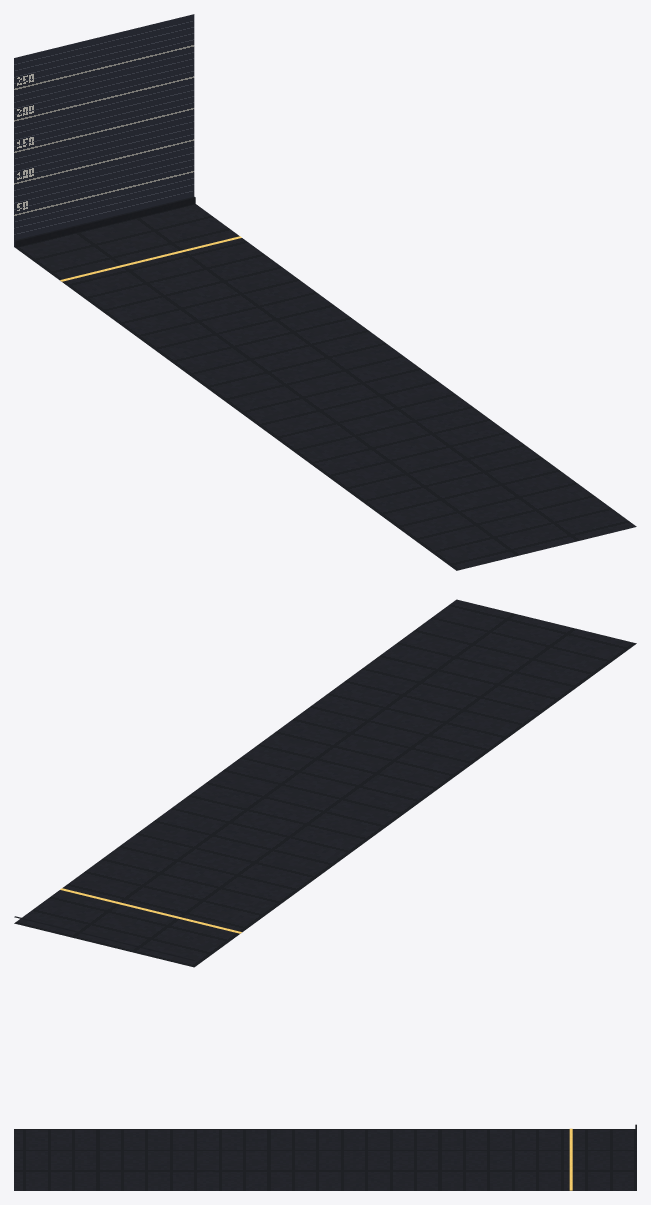
The model's file is lineup_wall.glb.
3 renders of one model, top to bottom at view 1: azimuth 30°, elevation 25°; view 2: azimuth 150°, elevation 25°; view 3: azimuth 270°, elevation 25°, orthographic. The views are drawn at different scales.
Parts seen in each view (by area): view 1: lineup_wall; view 2: lineup_wall; view 3: lineup_wall.
Boxes of the visible parts, box(x1,y1,x2,y2) form: lineup_wall: box(14, 14, 636, 570); lineup_wall: box(14, 599, 636, 967); lineup_wall: box(14, 1124, 636, 1190).
Bounding box in the file's own units: 3 × 3 × 12.75.
2 materials, 2 textured.
